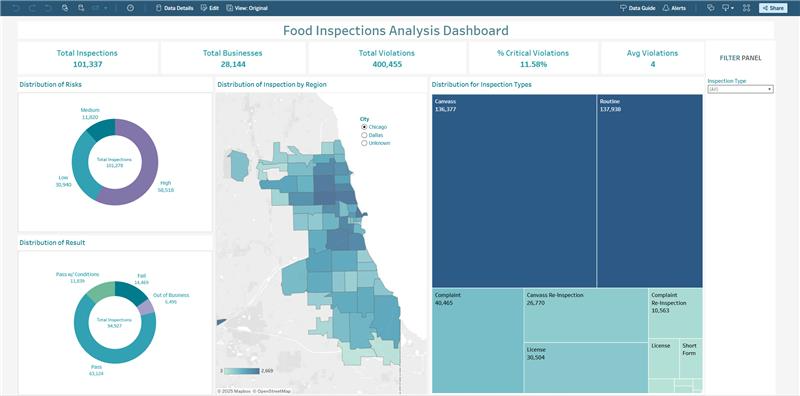

This screenshot's page, from the dashboard's own definition file:
{"tool":"tableau","page":{"name":"Inspection Dashboard","canvas":[1900,950],"ordinal":0},"visuals":[{"type":"title","box":[8,8,1884,74]},{"type":"worksheet","title":"TotalInspections","mark":"Automatic","box":[8,82,356.4,85]},{"type":"worksheet","title":"TotalBusinesses","mark":"Automatic","box":[364.4,82,365.2,85]},{"type":"worksheet","title":"TotalViolations","mark":"Automatic","box":[729.6,82,398.2,85]},{"type":"worksheet","title":"%CriticalViolations","mark":"Automatic","box":[1127.8,82,328.6,85]},{"type":"worksheet","title":"AvgViolationsPerInspection","mark":"Automatic","box":[1456.4,82,262.6,85]},{"type":"text","box":[1719,82,173,85]},{"type":"worksheet","title":"Distribution of Risks","mark":"Pie","rows":["Calculation_1899393144579657730","Calculation_1899393144579657730"],"box":[8,167,491.2,382]},{"type":"worksheet","title":"Distribution of Inspection by Region","mark":"Automatic","box":[499.2,167,531.9,775]},{"type":"worksheet","title":"Distribution for Inspection Types","mark":"Automatic","box":[1031.2,167,687.8,775]},{"type":"filter","title":"Distribution for Inspection Types","param":"[federated.12o3z7o02jibvc11jeltm0jitoa3].[none:INSPECTION_TYPE:nk]","box":[1719,167,173,73]},{"type":"filter","title":"Distribution of Inspection by Region","param":"[federated.12o3z7o02jibvc11jeltm0jitoa3].[none:CITY:nk]","box":[861,246,168,121]},{"type":"worksheet","title":"Distribution of Result","mark":"Pie","rows":["Calculation_1899393144579657730","Calculation_1899393144579657730"],"box":[8,549,491.2,393]},{"type":"legend","title":"Distribution of Inspection by Region","param":"[federated.12o3z7o02jibvc11jeltm0jitoa3].[ctd:INSPECTION_ID:qk]","box":[510,868,140,51]}]}

Visuals, with their boxes on the page's 1900x950 design canvas (x1, y1, x2, y2). These are canvas units, not pixel positions in the 800x396 screenshot, which may show the page scaled, cropped or inside an application window:
title: locate(8, 8, 1892, 82)
"TotalInspections" worksheet: locate(8, 82, 364, 167)
"TotalBusinesses" worksheet: locate(364, 82, 730, 167)
"TotalViolations" worksheet: locate(730, 82, 1128, 167)
"%CriticalViolations" worksheet: locate(1128, 82, 1456, 167)
"AvgViolationsPerInspection" worksheet: locate(1456, 82, 1719, 167)
text: locate(1719, 82, 1892, 167)
"Distribution of Risks" worksheet (Pie marks): locate(8, 167, 499, 549)
"Distribution of Inspection by Region" worksheet: locate(499, 167, 1031, 942)
"Distribution for Inspection Types" worksheet: locate(1031, 167, 1719, 942)
"Distribution for Inspection Types" filter: locate(1719, 167, 1892, 240)
"Distribution of Inspection by Region" filter: locate(861, 246, 1029, 367)
"Distribution of Result" worksheet (Pie marks): locate(8, 549, 499, 942)
"Distribution of Inspection by Region" legend: locate(510, 868, 650, 919)
